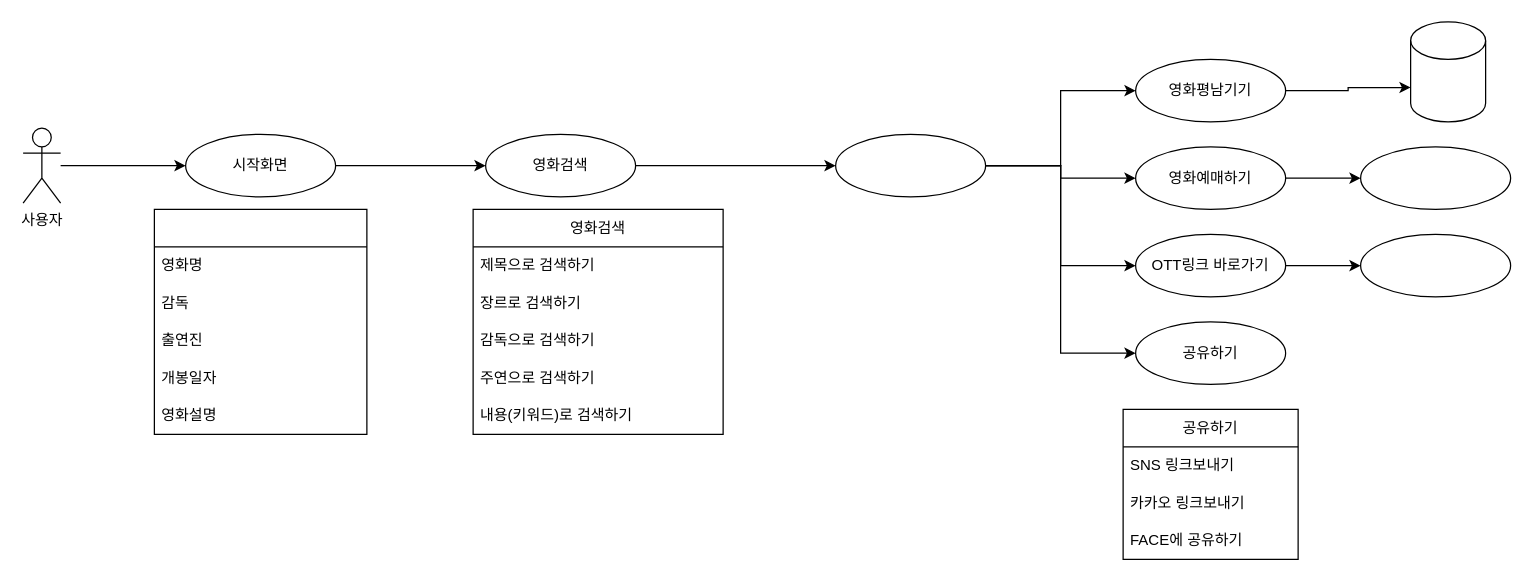
This 1533x581 diagram has some shape labels left out. Here are the shapes that lost their labels. From the top down, the box of each, then its label:
(834, 133, 986, 197): 자세히 보기
(1359, 146, 1511, 209): 제휴영화관 링크
(1359, 233, 1511, 297): OTT 연결
(153, 208, 367, 434): 최신영화
